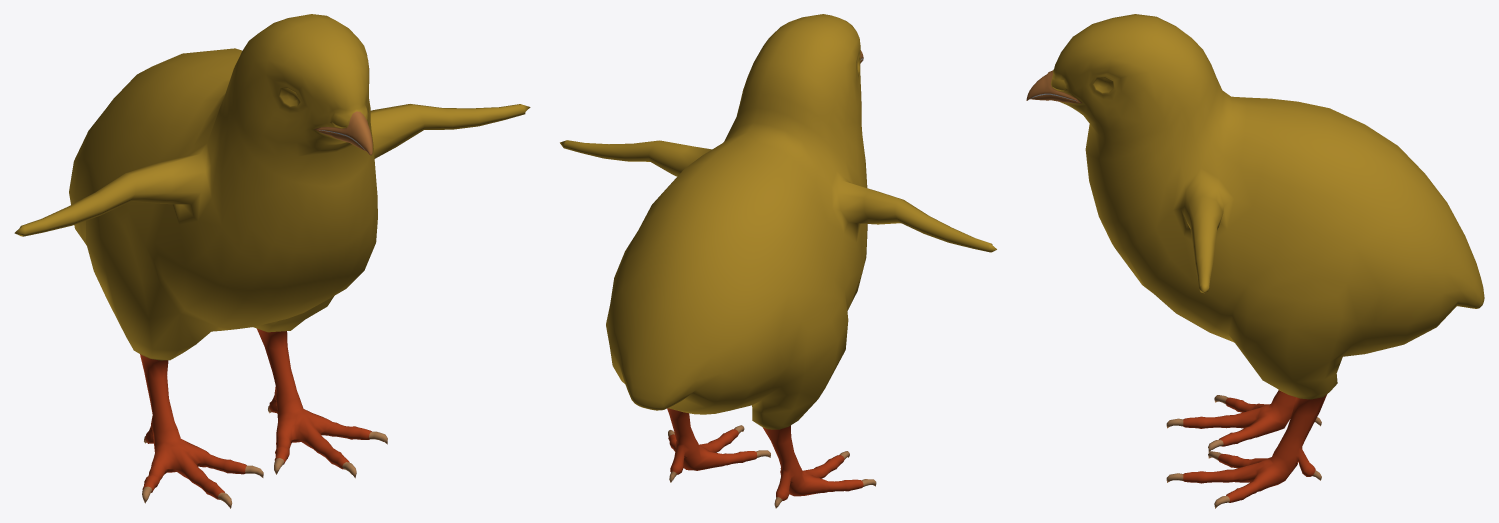
File: chick_chick.obj
3 renders of one model, left to right at view 1: azimuth 30°, elevation 25°; view 2: azimuth 150°, elevation 25°; view 3: azimuth 270°, elevation 25°, orthographic. The views are drawn at different scales.
Parts seen in each view (by area): view 1: chick; view 2: chick; view 3: chick.
Part boxes in pixels (x1,y1,x2,y2): chick: (14,14,530,508); chick: (560,14,996,508); chick: (1026,14,1484,508).
Bounding box in the file's own units: 0.1541 × 0.1382 × 0.1318.
